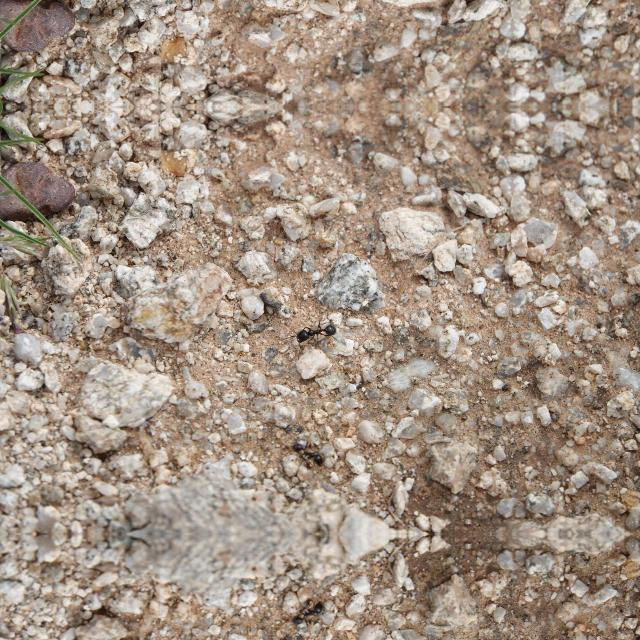Messor: (293, 315, 333, 345), (290, 436, 324, 466), (290, 602, 324, 630)
